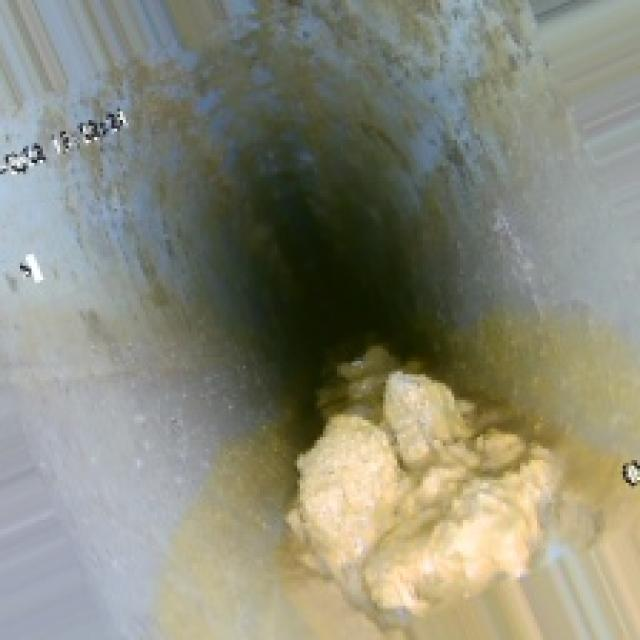sluge accumulation: (268, 309, 563, 614)
